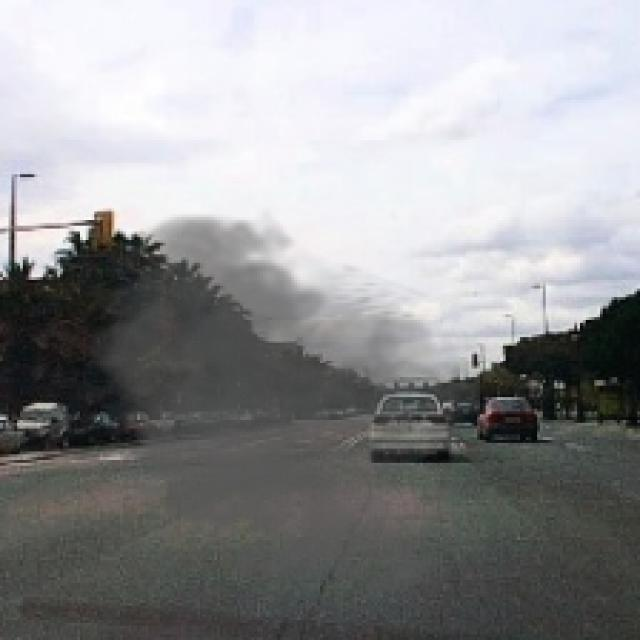smoke: (69, 206, 480, 608)
